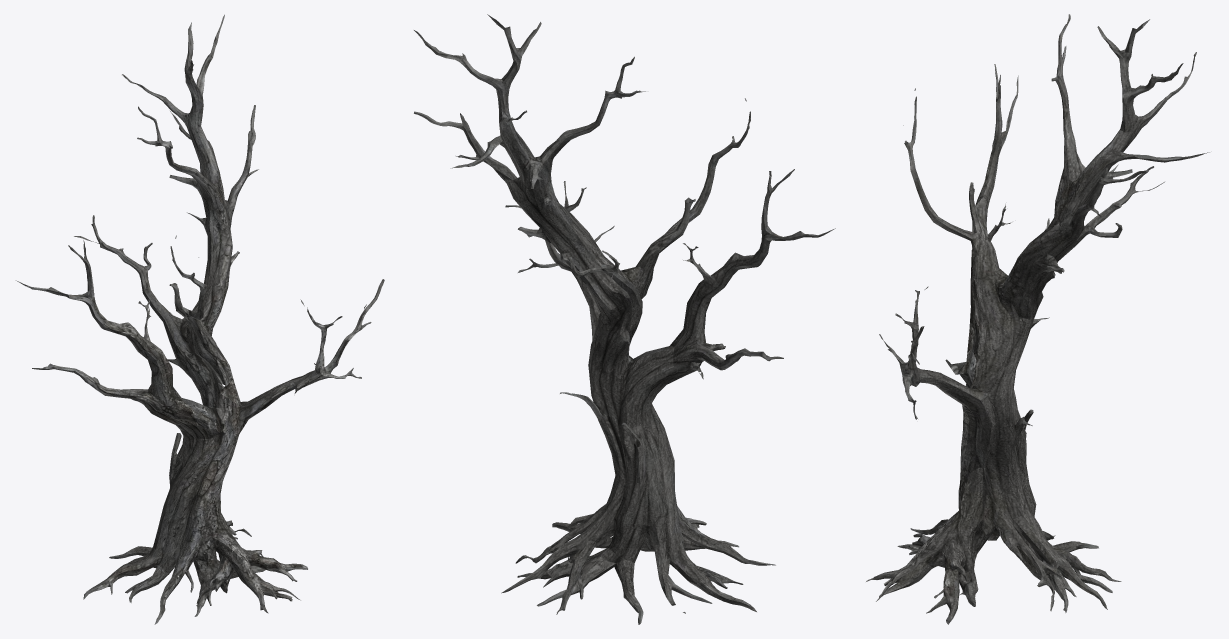
File: p_dead.glb
3 renders of one model, left to right at view 1: azimuth 30°, elevation 25°; view 2: azimuth 150°, elevation 25°; view 3: azimuth 270°, elevation 25°, orthographic. The views are drawn at different scales.
Parts seen in each view (by area): view 1: Mesh0; view 2: Mesh0; view 3: Mesh0.
Part boxes in pixels (x1=…): Mesh0: x1=15, y1=14, x2=384, y2=624; Mesh0: x1=414, y1=14, x2=835, y2=624; Mesh0: x1=866, y1=14, x2=1209, y2=624.
Bounding box in the file's own units: 1.3 × 1.86 × 0.9962.
Materials: 1 (1 with a texture image).
